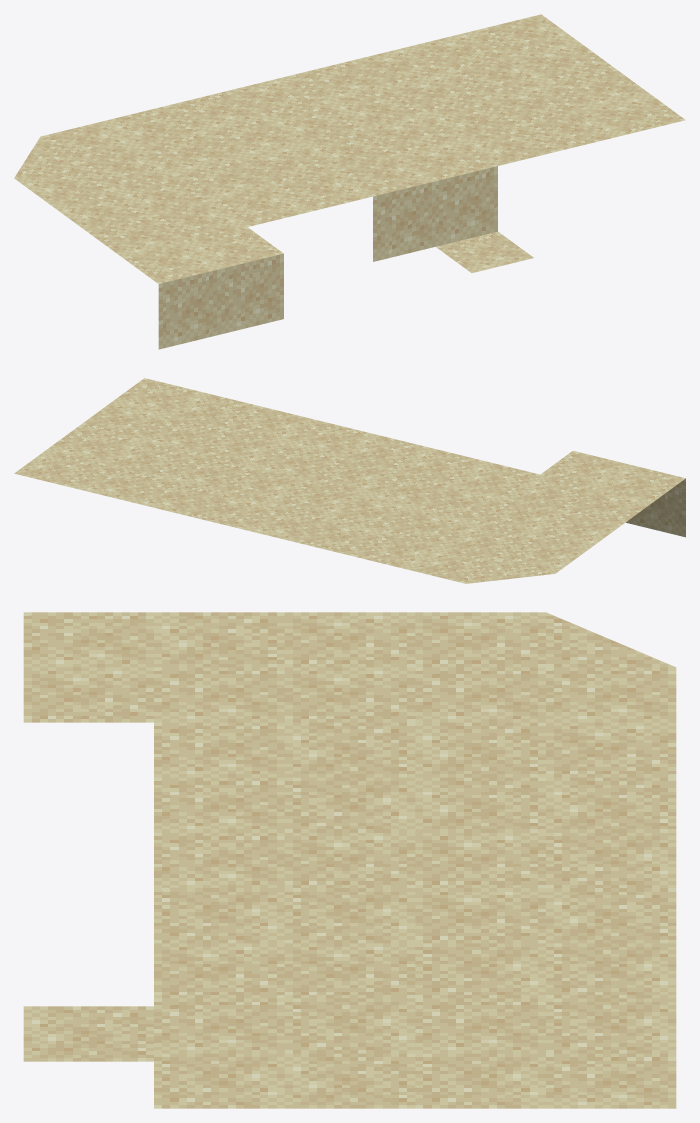
The model's file is Sand_Chunk_56_8.fbx.
The picture shows the model from 3 angles, top to bottom: view 1: azimuth 30°, elevation 25°; view 2: azimuth 150°, elevation 25°; view 3: azimuth 270°, elevation 25°; orthographic projection. The views are drawn at different scales.
Visible parts, largest first — view 1: Sand_Chunk_56_8; view 2: Sand_Chunk_56_8; view 3: Sand_Chunk_56_8.
Part boxes in pixels (x1,y1,x2,y2): Sand_Chunk_56_8: (14, 14, 685, 349); Sand_Chunk_56_8: (14, 378, 685, 583); Sand_Chunk_56_8: (23, 612, 676, 1108).
Bounding box in the file's own units: 900 × 100 × 500.
Materials: 1 (1 with a texture image).
